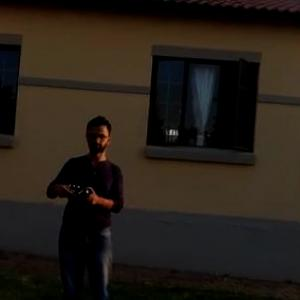follow: (39, 111, 128, 299)
